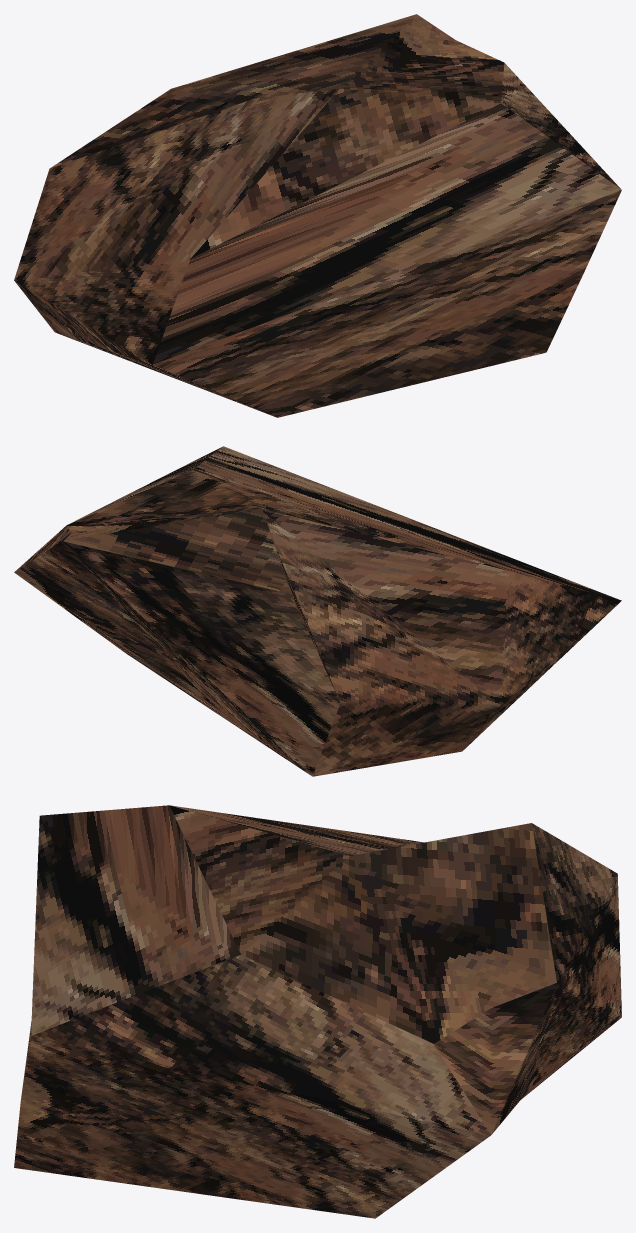
Rendered from stage-gran-p4-4.glb.
3 views of the same model, one above another, from view 1: azimuth 30°, elevation 25°; view 2: azimuth 150°, elevation 25°; view 3: azimuth 270°, elevation 25° (orthographic). The views are drawn at different scales.
Size of the model in its own units: 19.94 by 7.07 by 14.52.
1 material, 1 textured.
